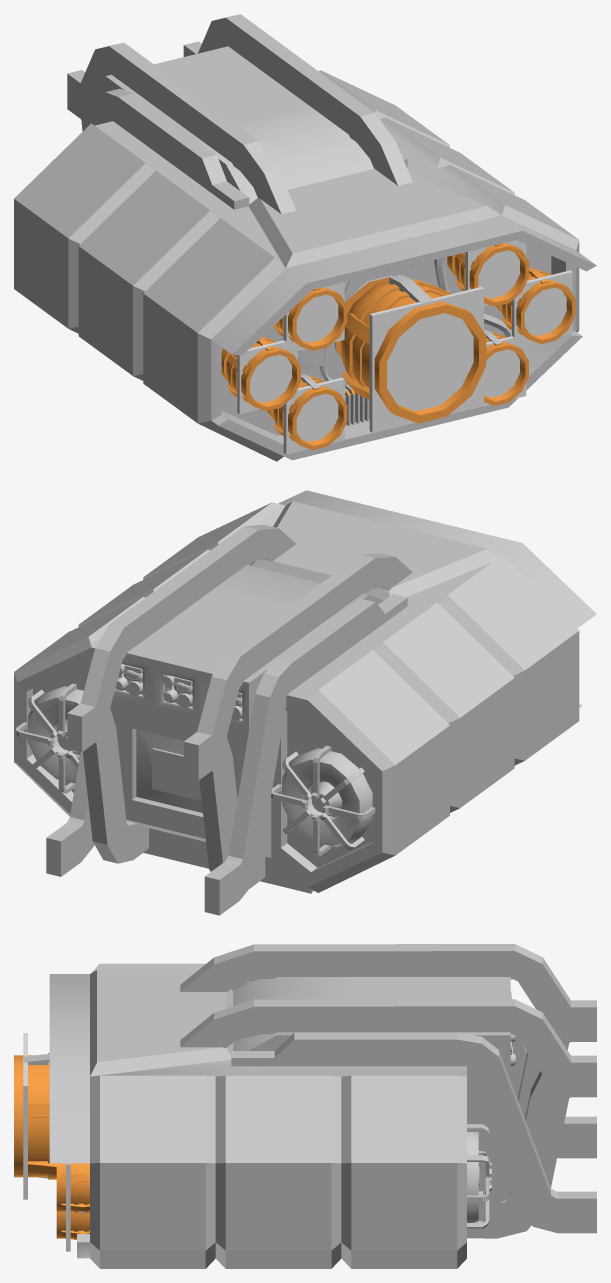
Rendered from Bracket_Engine.glb.
The picture shows the model from 3 angles, top to bottom: view 1: azimuth 30°, elevation 25°; view 2: azimuth 150°, elevation 25°; view 3: azimuth 270°, elevation 25°; orthographic projection. The views are drawn at different scales.
Visible parts, largest first — view 1: Bracket Engine, CenterThruster, LeftBottomThruster, LeftMidThruster, RightMidThruster, LeftTopThruster, RightTopThruster, RightBottomThruster; view 2: Bracket Engine; view 3: Bracket Engine, CenterThruster.
Boxes of the visible parts, box(x1,y1,x2,y2) form: Bracket Engine: box(14, 14, 596, 461); CenterThruster: box(369, 287, 483, 432); LeftBottomThruster: box(283, 377, 344, 454); LeftMidThruster: box(237, 340, 297, 414); RightMidThruster: box(512, 270, 572, 344); LeftTopThruster: box(283, 282, 344, 352); RightTopThruster: box(465, 240, 526, 305); RightBottomThruster: box(467, 336, 526, 409); Bracket Engine: box(14, 490, 596, 915); Bracket Engine: box(14, 944, 596, 1268); CenterThruster: box(23, 1033, 27, 1199).
Size of the model in its own units: 3.68 by 2.35 by 5.01.
